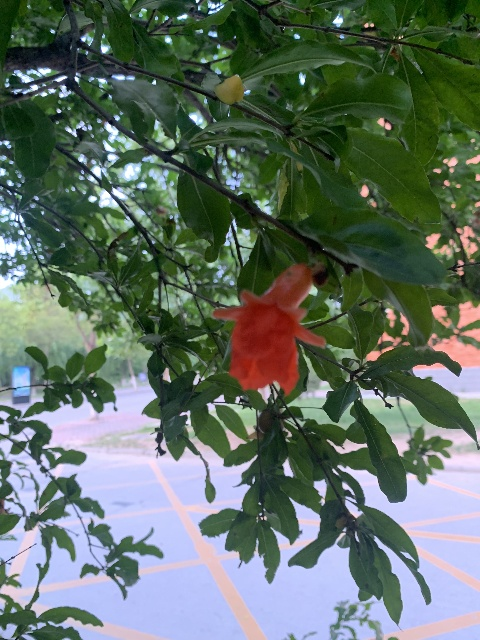flower: (212, 263, 325, 397)
